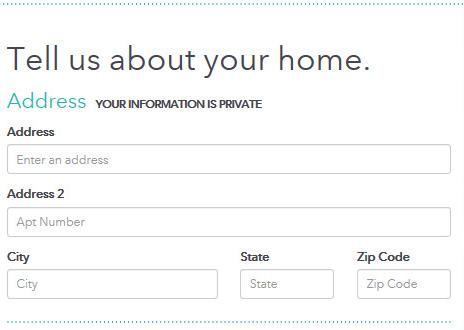field: (5, 143, 451, 175), (5, 207, 451, 238), (4, 268, 219, 301), (238, 268, 333, 300), (355, 269, 450, 300)
field_with_label: (4, 188, 454, 240), (3, 126, 453, 176), (2, 251, 221, 302), (353, 251, 453, 302), (236, 251, 335, 301)
